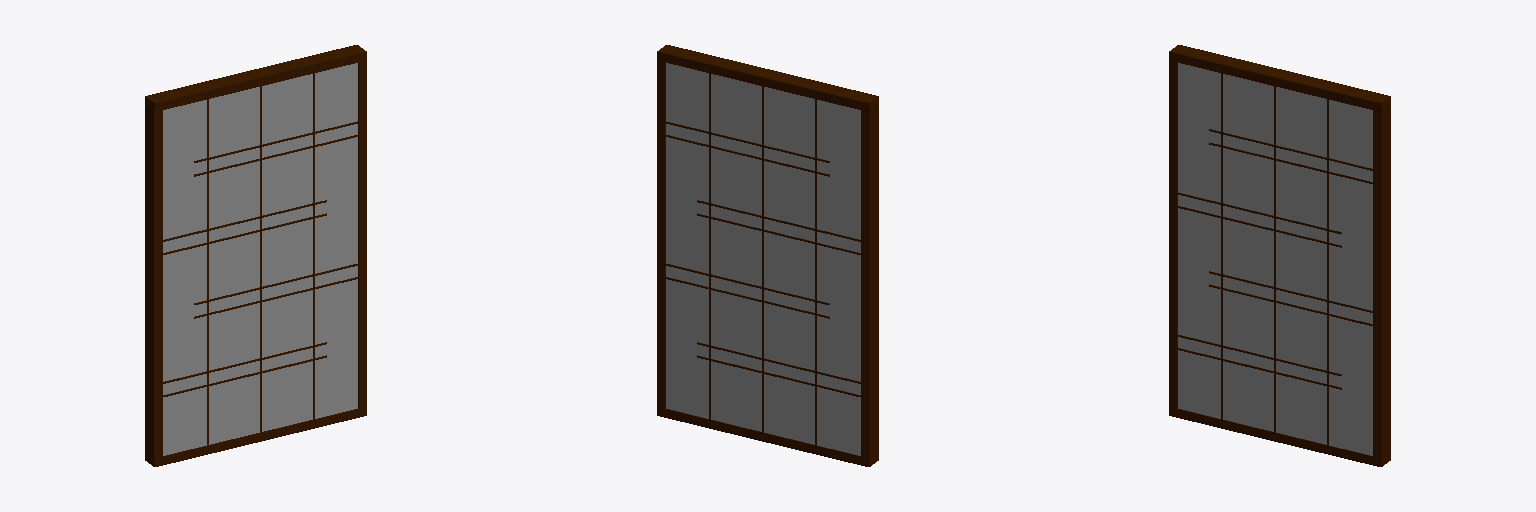
Rendered from door-game1.obj.
The picture shows the model from 3 angles: view 1: azimuth 30°, elevation 25°; view 2: azimuth 150°, elevation 25°; view 3: azimuth 330°, elevation 25°; orthographic projection.
Parts seen in each view (by area): view 1: Cube.015; view 2: Cube.015; view 3: Cube.015.
Part boxes in pixels (bbox=[...]): Cube.015: bbox=[145, 45, 366, 466]; Cube.015: bbox=[657, 45, 878, 466]; Cube.015: bbox=[1169, 45, 1390, 466].
Size of the model in its own units: 5.02 by 8.2 by 0.4.